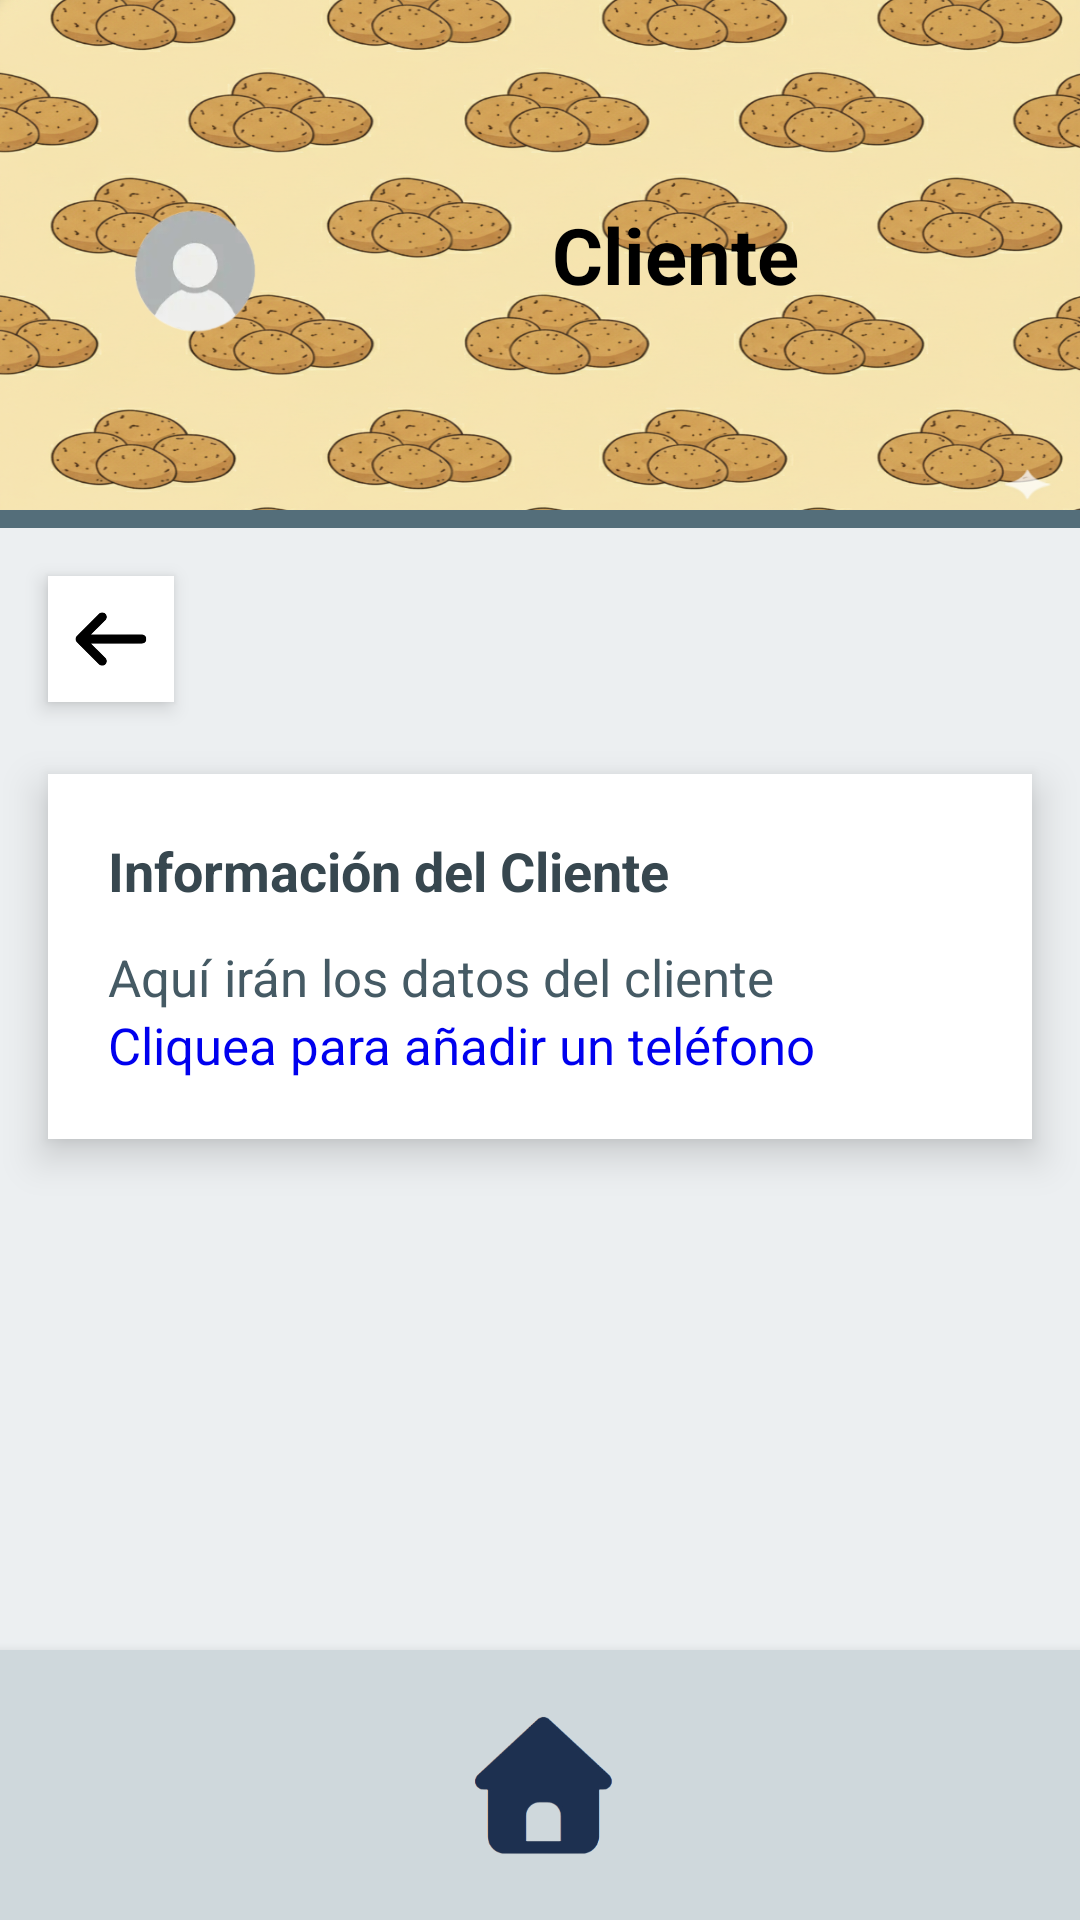

Icon bounding boxes for this 1080 x 1920 phone screenshot, format (x1, y1, x2, y2):
casita: (475, 1717, 612, 1854)
flecha: (48, 576, 174, 702)
